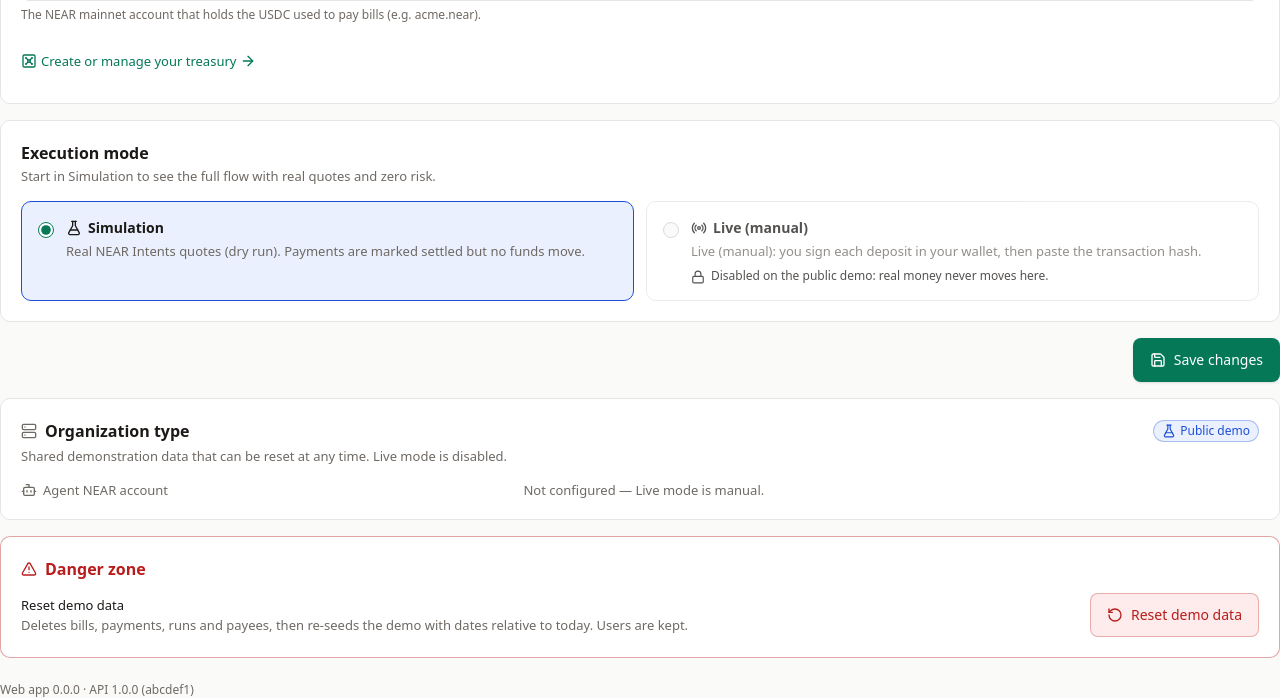
settings: reset demo › asks for confirmation, resets and refetches every query
(page scrolled)
Click the button with test id "reset-demo-button" at [1174, 615], box [1090,593,1259,637]
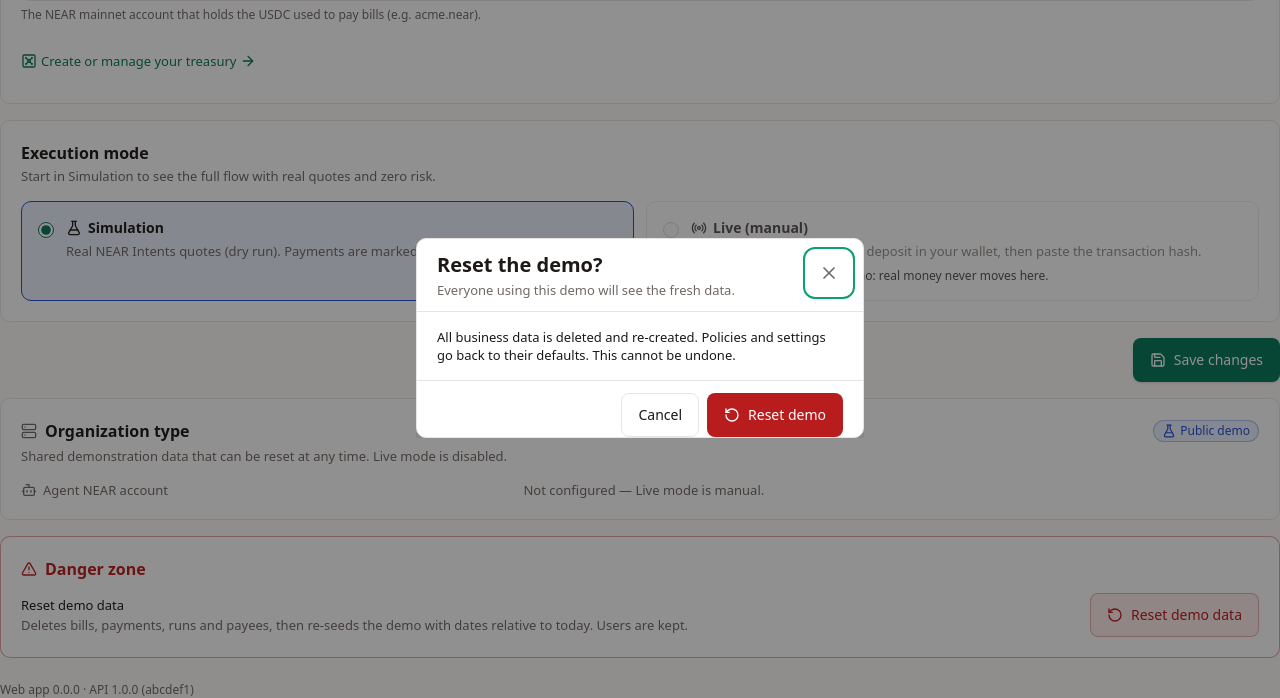
Click the button with test id "reset-demo-confirm" at [775, 415], box [707,393,843,437]
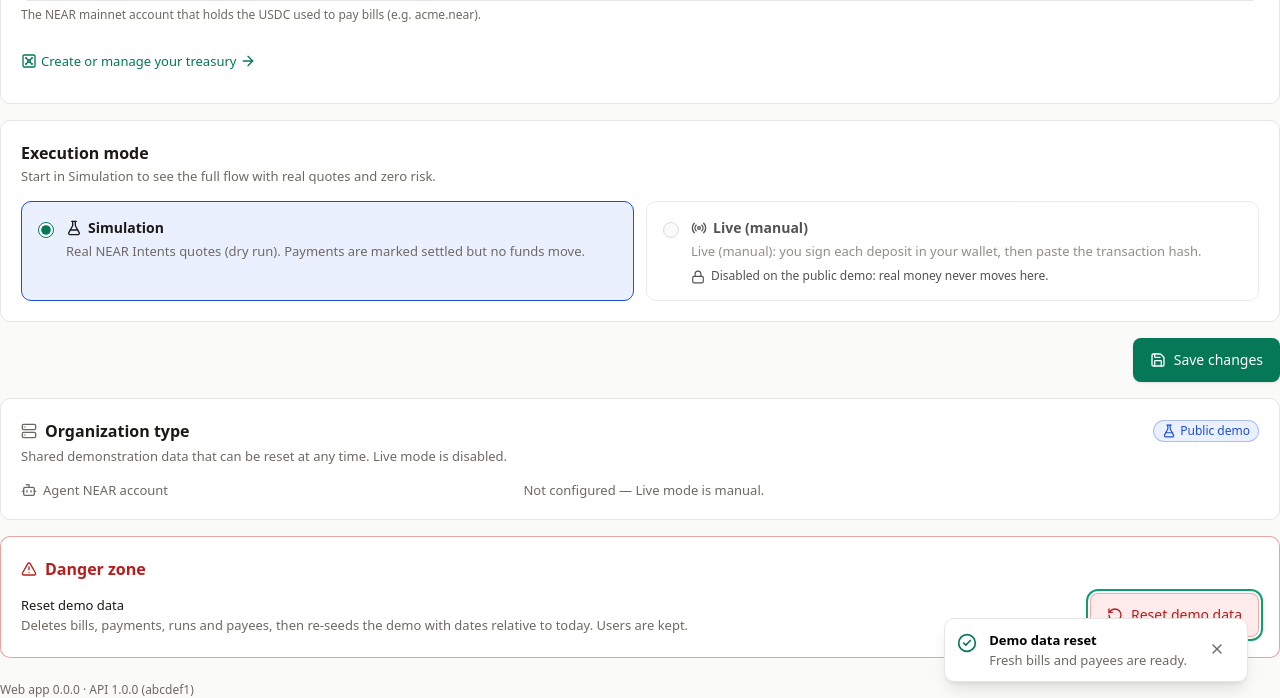
Expected: the text "Demo data reset" is shown, [989,631,1097,649]
